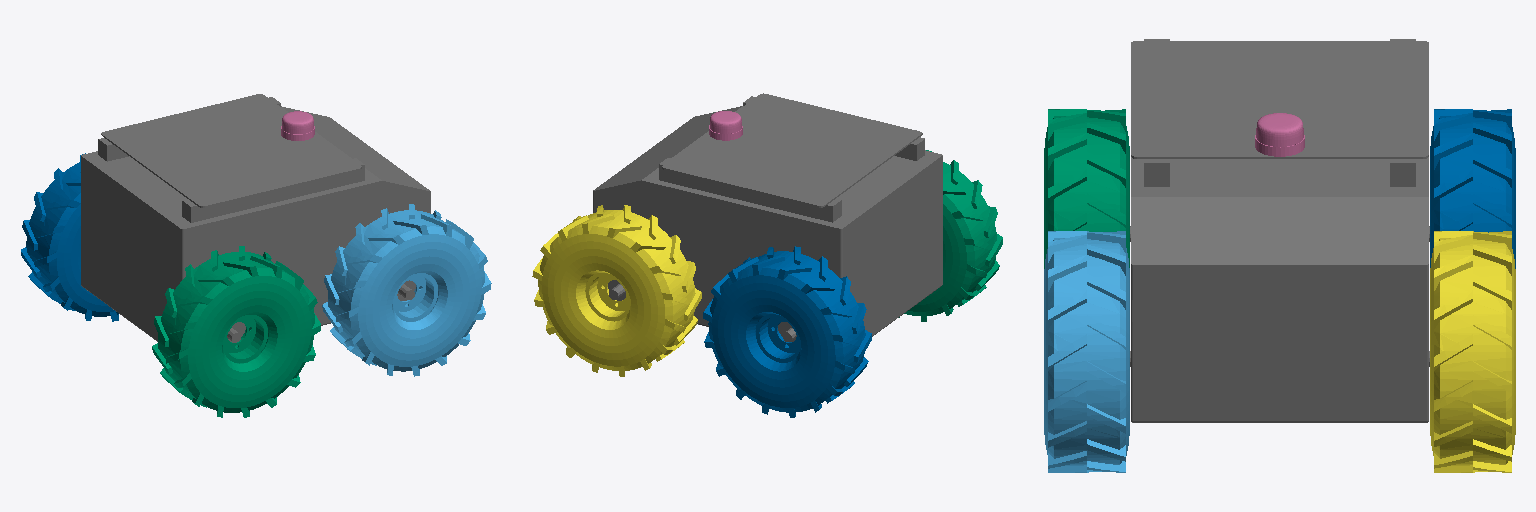
URDF robot description (copernicus):
<?xml version="1.0" encoding="utf-8"?>
<!-- =================================================================================== -->
<!-- |    This document was autogenerated by xacro from copernicus.xacro               | -->
<!-- |    EDITING THIS FILE BY HAND IS NOT RECOMMENDED                                 | -->
<!-- =================================================================================== -->
<!--

Copyright (c) 2021, Botsync Pte. Ltd.
All rights reserved.

Redistribution and use in source and binary forms, with or without
modification, are permitted provided that the following conditions are met:
    * Redistributions of source code must retain the above copyright
      notice, this list of conditions and the following disclaimer.
    * Redistributions in binary form must reproduce the above copyright
      notice, this list of conditions and the following disclaimer in the
      documentation and/or other materials provided with the distribution.
    * Neither the name of the Botsync Pte. Ltd. nor the 
      names of its contributors may be used to endorse or promote products
      derived from this software without specific prior written permission.

THIS SOFTWARE IS PROVIDED BY THE COPYRIGHT [author] "AS IS" AND
ANY EXPRESS OR IMPLIED WARRANTIES, INCLUDING, BUT NOT LIMITED TO, THE IMPLIED
WARRANTIES OF MERCHANTABILITY AND FITNESS FOR A PARTICULAR PURPOSE ARE
DISCLAIMED. IN NO EVENT SHALL <COPYRIGHT HOLDER> BE LIABLE FOR ANY
DIRECT, INDIRECT, INCIDENTAL, SPECIAL, EXEMPLARY, OR CONSEQUENTIAL DAMAGES
(INCLUDING, BUT NOT LIMITED TO, PROCUREMENT OF SUBSTITUTE GOODS OR SERVICES;
LOSS OF USE, DATA, OR PROFITS; OR BUSINESS INTERRUPTION) HOWEVER CAUSED AND
ON ANY THEORY OF LIABILITY, WHETHER IN CONTRACT, STRICT LIABILITY, OR TORT
(INCLUDING NEGLIGENCE OR OTHERWISE) ARISING IN ANY WAY OUT OF THE USE OF THIS
SOFTWARE, EVEN IF ADVISED OF THE POSSIBILITY OF SUCH DAMAGE.

-->
<robot name="copernicus">
<mujoco>
        <compiler meshdir="meshes"                  balanceinertia="true"                  strippath="false"/>
        <option collision="predefined" cone="elliptic" jacobian="sparse" tolerance="1e-6" iterations="30" solver="CG" timestep="0.002"/>
</mujoco>
  <material name="blue">
    <color rgba="0 0 0.8 1"/>
  </material>
  <material name="white">
    <color rgba="1 1 1 1"/>
  </material>
  <material name="gray">
    <color rgba="0.5 0.5 0.5 1"/>
  </material>
  <!--<xacro:arg name="camera_enabled" default="false"/>
    <xacro:arg name="intel_d435i_enabled" default="false"/>-->
  <!-- Footprint -->
<!--  <link name="footprint"/>

  <joint name="base_footprint_joint" type="fixed">
    <origin rpy="0 0 0" xyz="0 0 0"/>
    <parent link="base_link"/>
    <child link="footprint"/>
  </joint>-->
  <!-- Chassis a.k.a base_link -->
  <link name="base_link">
    <visual>
      <origin rpy="0 0 0" xyz="0 0 0"/>
      <geometry>
        <mesh filename="copernicus.stl" scale="0.1 0.1 0.1"/>
      </geometry>
      <material name="gray"/>
    </visual>
    <collision>
      <origin rpy="0 0 0" xyz="0 0 0"/>
      <geometry>
        <mesh filename="copernicus.stl" scale="0.1 0.1 0.1"/>
      </geometry>
    </collision>
    <inertial>
      <mass value="5.674"/>
      <origin xyz="0 0 0"/>
      <inertia ixx="3.28" ixy="0.0" ixz="0.0" iyy="3.69" iyz="0.0" izz="2.26"/>
    </inertial>
  </link>
  <!-- Wheel Link -->
  <link name="front_right_wheel">
    <visual>
      <origin rpy="0 0 0" xyz="0 0 0"/>
      <geometry>
        <mesh filename="wheel.stl" scale="0.1 0.1 0.1"/>
      </geometry>
      <material name="black"/>
    </visual>
    <collision>
      <origin rpy="0 0 0" xyz="0 0 0"/>
      <geometry>
        <mesh filename="wheel.stl" scale="0.1 0.1 0.1"/><!--<cylinder length="0.12" radius="0.18"/>-->
      </geometry>
    </collision>
    <inertial>
      <mass value="2.637"/>
      <origin xyz="0 0 0"/>
      <inertia ixx="0.739" ixy="0.17" ixz="0.236" iyy="0.741" iyz="0.299" izz="0.46"/>
    </inertial>
  </link>
  <!-- Wheel Joint -->
  <joint name="front_right_wheel_joint" type="continuous">
    <parent link="base_link"/>
    <child link="front_right_wheel"/>
    <origin rpy="0 0 0" xyz="0.2203 -0.2949 0.073"/>
    <axis xyz="0 1 0"/>
  </joint>
  <!-- Wheel Transmission -->
  <!-- Wheel Link -->
  <link name="back_right_wheel">
    <visual>
      <origin rpy="0 0 0" xyz="0 0 0"/>
      <geometry>
        <mesh filename="wheel.stl" scale="0.1 0.1 0.1"/>
      </geometry>
      <material name="black"/>
    </visual>
    <collision>
      <origin rpy="0 0 0" xyz="0 0 0"/>
      <geometry>
        <mesh filename="wheel.stl" scale="0.1 0.1 0.1"/><!--<cylinder length="0.12" radius="0.18"/>-->
      </geometry>
    </collision>
    <inertial>
      <mass value="2.637"/>
      <origin xyz="0 0 0"/>
      <inertia ixx="0.739" ixy="0.17" ixz="0.236" iyy="0.741" iyz="0.299" izz="0.46"/>
    </inertial>
  </link>
  <!-- Wheel Joint -->
  <joint name="back_right_wheel_joint" type="continuous">
    <parent link="base_link"/>
    <child link="back_right_wheel"/>
    <origin rpy="0 0 0" xyz="-0.2203 -0.2949 0.073"/>
    <axis xyz="0 1 0"/>
  </joint>
  <!-- Wheel Transmission -->
  <!-- Wheel Link -->
  <link name="front_left_wheel">
    <visual>
      <origin rpy="0 0 0" xyz="0 0 0"/>
      <geometry>
        <mesh filename="wheel.stl" scale="0.1 0.1 0.1"/>
      </geometry>
      <material name="black"/>
    </visual>
    <collision>
      <origin rpy="0 0 0" xyz="0 0 0"/>
      <geometry>
        <mesh filename="wheel.stl" scale="0.1 0.1 0.1"/><!--<cylinder length="0.12" radius="0.18"/>-->
      </geometry>
    </collision>
    <inertial>
      <mass value="2.637"/>
      <origin xyz="0 0 0"/>
      <inertia ixx="0.739" ixy="0.17" ixz="0.236" iyy="0.741" iyz="0.299" izz="0.46"/>
    </inertial>
  </link>
  <!-- Wheel Joint -->
  <joint name="front_left_wheel_joint" type="continuous">
    <parent link="base_link"/>
    <child link="front_left_wheel"/>
    <origin rpy="0 0 0" xyz="0.2203 0.2949 0.073"/>
    <axis xyz="0 1 0"/>
  </joint>
  <!-- Wheel Transmission -->
  <!-- Wheel Link -->
  <link name="back_left_wheel">
    <visual>
      <origin rpy="0 0 0" xyz="0 0 0"/>
      <geometry>
        <mesh filename="wheel.stl" scale="0.1 0.1 0.1"/>
      </geometry>
      <material name="black"/>
    </visual>
    <collision>
      <origin rpy="0 0 0" xyz="0 0 0"/>
      <geometry>
        <mesh filename="wheel.stl" scale="0.1 0.1 0.1"/><!--<cylinder length="0.12" radius="0.18"/>-->
      </geometry>
    </collision>
    <inertial>
      <mass value="2.637"/>
      <origin xyz="0 0 0"/>
      <inertia ixx="0.739" ixy="0.17" ixz="0.236" iyy="0.741" iyz="0.299" izz="0.46"/>
    </inertial>
  </link>
  <!-- Wheel Joint -->
  <joint name="back_left_wheel_joint" type="continuous">
    <parent link="base_link"/>
    <child link="back_left_wheel"/>
    <origin rpy="0 0 0" xyz="-0.2203 0.2949 0.073"/>
    <axis xyz="0 1 0"/>
  </joint>
  <!-- Wheel Transmission -->
  <joint name="imu_joint" type="fixed">
    <parent link="base_link"/>
    <child link="imu"/>
    <origin rpy="0 0 0" xyz="0 0 0.11457"/>
  </joint>
  <link name="imu">
    <inertial>
      <mass value="0.001"/>
      <origin rpy="0 0 0" xyz="0 0 0"/>
      <inertia ixx="1e-09" ixy="0.0" ixz="0.0" iyy="1e-09" iyz="0.0" izz="1e-09"/>
    </inertial>
  </link>
  <!-- lidar link -->
  <link name="lidar">
    <visual>
      <origin rpy="0 0 0.785398" xyz="-0.018 0 -0.03"/>
      <geometry>
        <mesh filename="rplidar.stl"/>
      </geometry>
    </visual>
    <collision>
      <origin rpy="0 0 0" xyz="-0.018 0 -0.03"/>
      <geometry>
        <mesh filename="rplidar.stl"/>
      </geometry>
    </collision>
    <inertial>
      <origin rpy="0 0 0" xyz="-0.018 0 -0.005"/>
      <mass value="0.3"/>
      <inertia ixx="0.00028" ixy="0.0" ixz="0.0" iyy="0.00028" iyz="0.0" izz="0.00022"/>
    </inertial>
  </link>
  <!-- lidar joint -->
  <joint name="lidar_joint" type="fixed">
    <origin rpy="0 0 0" xyz="0.127 0.0 0.395"/>
    <parent link="base_link"/>
    <child link="lidar"/>
  </joint>
  <!-- CAMERA -->
  <!--<xacro:if value="$(arg camera_enabled)">
            <xacro:include filename="$(find copernicus_description)/urdf/accessories/camera_copernicus.urdf.xacro"/>
            <xacro:camera_ intel_d435i_enabled="$(arg intel_d435i_enabled)" robot_namespace="$(arg robot_namespace)"></xacro:camera_>
        </xacro:if>-->
  <!--ROBOT GAZEBO TAG-->
</robot>

--- Facts derived from the render (not from the file) ---
The picture shows the robot from 3 angles, left to right: view 1: azimuth 30°, elevation 25°; view 2: azimuth 150°, elevation 25°; view 3: azimuth 270°, elevation 25°; orthographic projection.
Robot: copernicus — 7 links, 6 joints (4 continuous, 2 fixed); root link base_link; default pose: all joints at 0.
Links seen in each view (by area): view 1: base_link, back_right_wheel, front_right_wheel, back_left_wheel, lidar; view 2: base_link, back_left_wheel, front_left_wheel, back_right_wheel, lidar; view 3: base_link, front_right_wheel, front_left_wheel, back_left_wheel, back_right_wheel, lidar.
Boxes of the visible links, bbox=[...] form: base_link: bbox=[81, 94, 430, 342]; back_right_wheel: bbox=[152, 246, 320, 417]; front_right_wheel: bbox=[322, 204, 491, 376]; back_left_wheel: bbox=[21, 153, 118, 321]; lidar: bbox=[281, 111, 314, 140]; base_link: bbox=[593, 93, 942, 341]; back_left_wheel: bbox=[703, 246, 871, 417]; front_left_wheel: bbox=[532, 205, 701, 376]; back_right_wheel: bbox=[899, 150, 1002, 321]; lidar: bbox=[709, 111, 742, 140]; base_link: bbox=[1130, 39, 1429, 422]; front_right_wheel: bbox=[1044, 231, 1129, 472]; front_left_wheel: bbox=[1430, 231, 1515, 472]; back_left_wheel: bbox=[1430, 109, 1515, 268]; back_right_wheel: bbox=[1044, 109, 1129, 268]; lidar: bbox=[1255, 113, 1304, 156].
Size in the robot's own frame: 0.8106 by 0.72 by 0.523 metres.
6 mesh visuals loaded from 3 distinct referenced files (3 binary STL).
